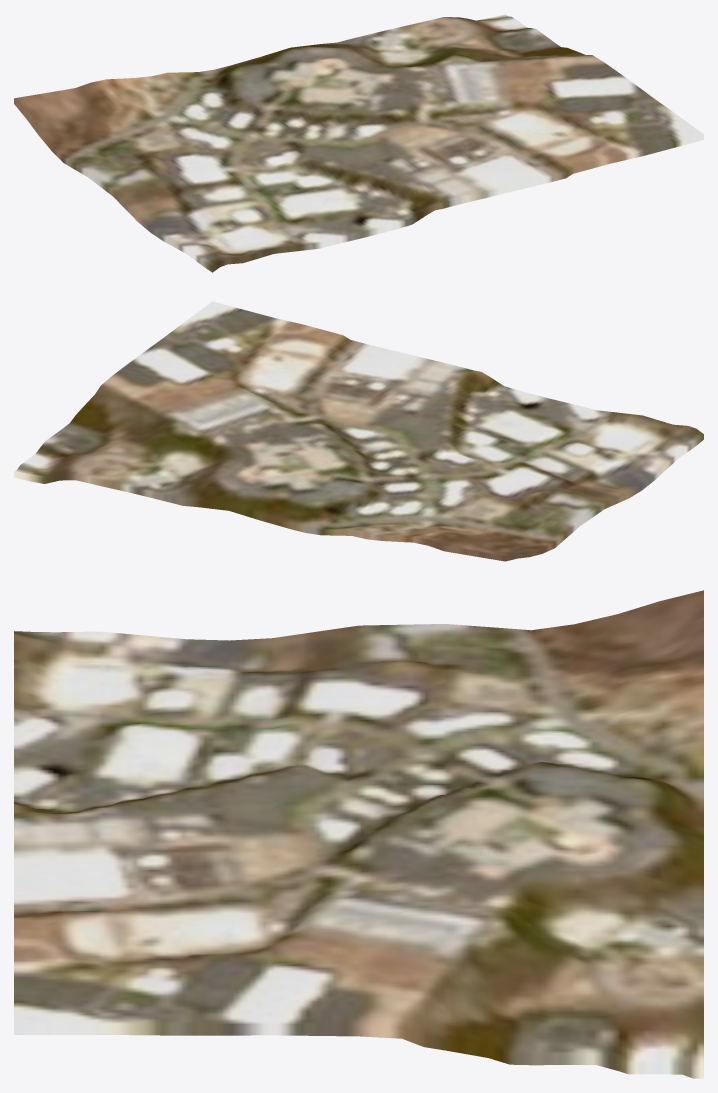
File: terrain_r3_c6_lod2.glb
The picture shows the model from 3 angles, top to bottom: view 1: azimuth 30°, elevation 25°; view 2: azimuth 150°, elevation 25°; view 3: azimuth 270°, elevation 25°; orthographic projection. The views are drawn at different scales.
Parts seen in each view (by area): view 1: terrain_r3_c6_lod2; view 2: terrain_r3_c6_lod2; view 3: terrain_r3_c6_lod2.
Part boxes in pixels (<box>): terrain_r3_c6_lod2: <box>14,14,703,272</box>; terrain_r3_c6_lod2: <box>14,301,703,561</box>; terrain_r3_c6_lod2: <box>14,590,703,1078</box>.
Size of the model in its own units: 1125 by 90.57 by 787.
1 material, 1 textured.
